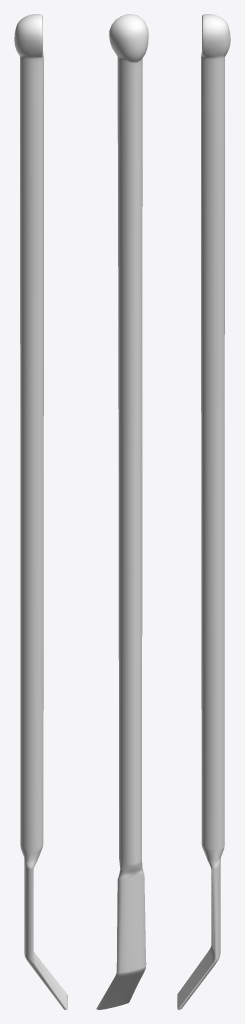
Rendered from Spatula_Flat_angle.fbx.
3 renders of one model, left to right at view 1: azimuth 90°, elevation 25°; view 2: azimuth 210°, elevation 25°; view 3: azimuth 270°, elevation 25°, orthographic.
Parts seen in each view (by area): view 1: Spatula_Flat_angle_LOD0; view 2: Spatula_Flat_angle_LOD0; view 3: Spatula_Flat_angle_LOD0.
Part boxes in pixels (x1=…): Spatula_Flat_angle_LOD0: x1=14, y1=14, x2=67, y2=1009; Spatula_Flat_angle_LOD0: x1=96, y1=14, x2=148, y2=1009; Spatula_Flat_angle_LOD0: x1=177, y1=14, x2=230, y2=1009.
Size of what is drawn, in the model's own units: 0.778 by 22.02 by 1.08.
